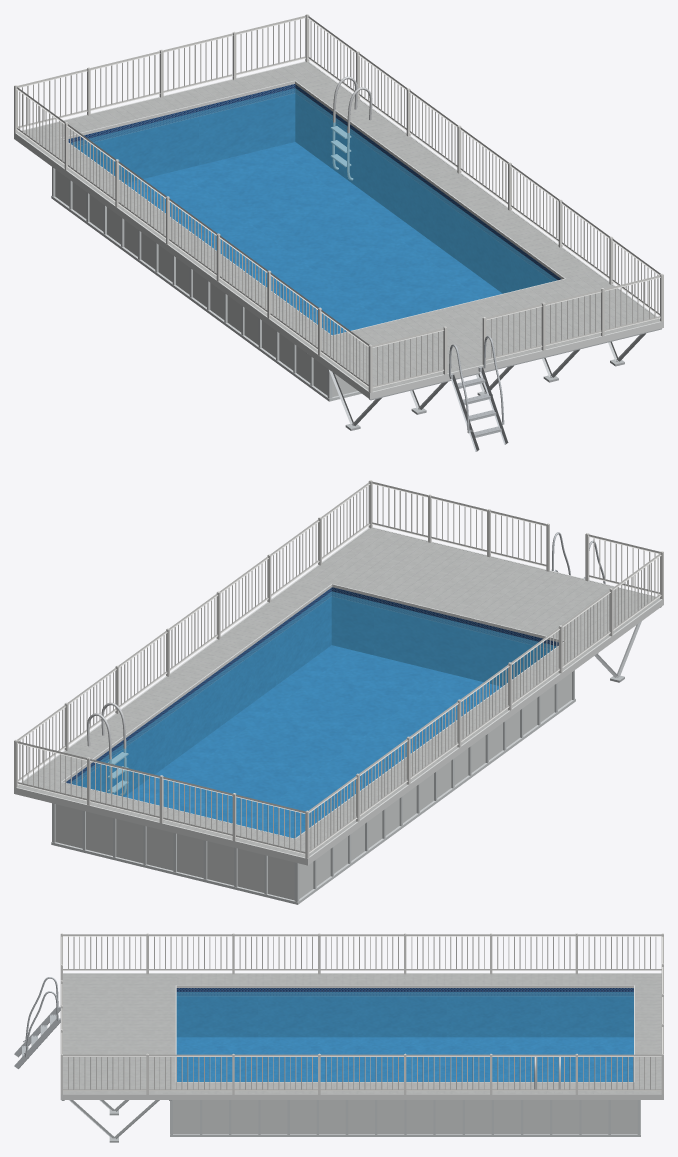
Rendered from kayak-pool-16x32-white.glb.
3 views of the same model, one above another, from view 1: azimuth 30°, elevation 25°; view 2: azimuth 150°, elevation 25°; view 3: azimuth 270°, elevation 25° (orthographic). The views are drawn at different scales.
Parts seen in each view (by area): view 1: water, deck, liner_floor, fence, liner_wall, fascia, wall, upright, stud, ladder, steel; view 2: water, deck, liner_floor, fence, liner_wall, wall, fascia, upright, steel; view 3: water, deck, liner_wall, liner_floor, fence, wall, fascia, upright, ladder, stud.
Part boxes in pixels (x1,y1,x2,y2): water: (71,88,557,335); deck: (17,62,659,391); liner_floor: (125,142,502,335); fence: (14,14,663,392); liner_wall: (68,84,561,293); fascia: (14,61,663,399); wall: (55,169,357,396); upright: (51,167,361,401); stud: (306,328,661,430); ladder: (449,336,508,451); steel: (330,76,372,180); water: (69,591,556,838); deck: (18,528,660,857); liner_floor: (125,645,501,838); fence: (14,480,663,858); liner_wall: (66,587,558,796); wall: (55,672,571,900); fascia: (14,527,663,865); upright: (51,670,575,904); steel: (87,702,128,795); water: (176,992,633,1081); deck: (63,973,661,1093); liner_wall: (176,988,633,1037); liner_floor: (176,1037,633,1081); fence: (60,933,663,1094); wall: (173,1100,637,1133); fascia: (60,973,663,1099); upright: (170,1100,640,1136); ladder: (14,977,60,1068); stud: (61,1100,171,1142).
Bounding box in the file's own units: 6.1 × 2.15 × 13.79.
Materials: 11 (3 with a texture image).
